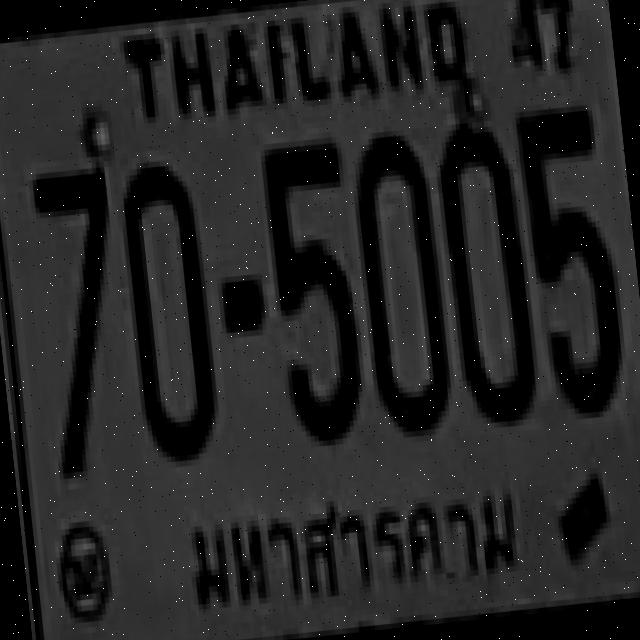0: (347, 128, 451, 434), (432, 116, 536, 422), (112, 158, 218, 458)
5: (512, 98, 625, 416), (260, 136, 366, 444)
7: (27, 161, 130, 462), (27, 165, 122, 388), (27, 161, 119, 357)
MahaSarakham: (168, 467, 530, 627)
